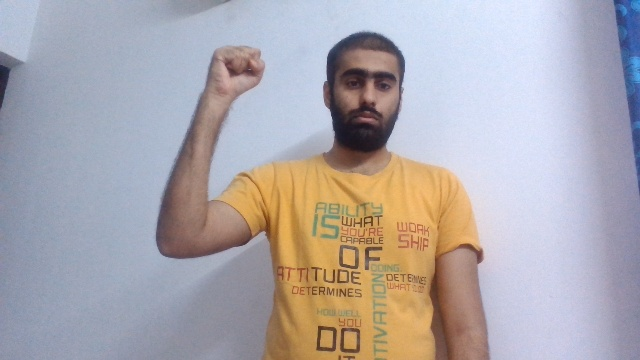rock: (197, 44, 266, 99)
